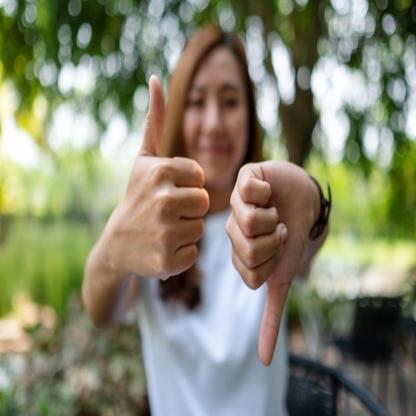thumb_down: (223, 152, 308, 367)
thumb_up: (123, 69, 209, 283)
